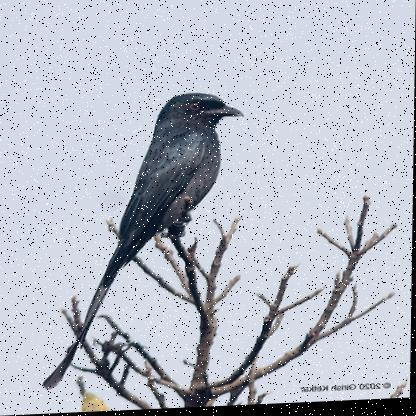Burung: (46, 91, 250, 389)
